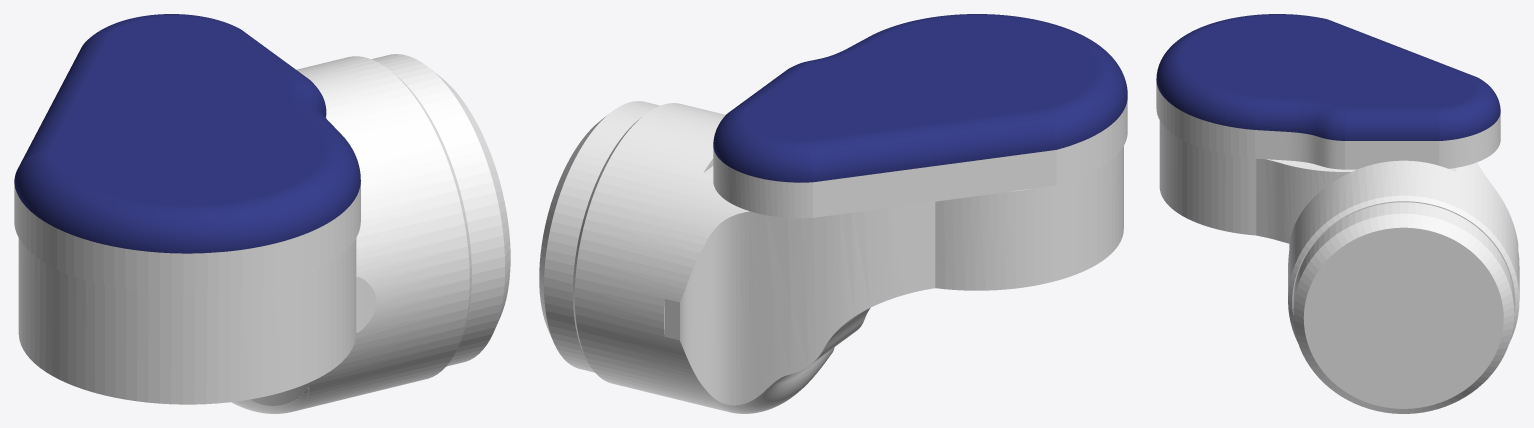
3 renders of one model, left to right at view 1: azimuth 30°, elevation 25°; view 2: azimuth 150°, elevation 25°; view 3: azimuth 270°, elevation 25°, orthographic. The views are drawn at different scales.
Visible parts, largest first — view 1: Link_U; view 2: Link_U; view 3: Link_U.
Boxes of the visible parts, x1,y1,x2,y2 form: Link_U: (14,14,510,413); Link_U: (539,14,1127,413); Link_U: (1156,14,1519,413).
Bounding box in the file's own units: 0.1885 × 0.1725 × 0.131.
Materials: 1 (1 with a texture image).
